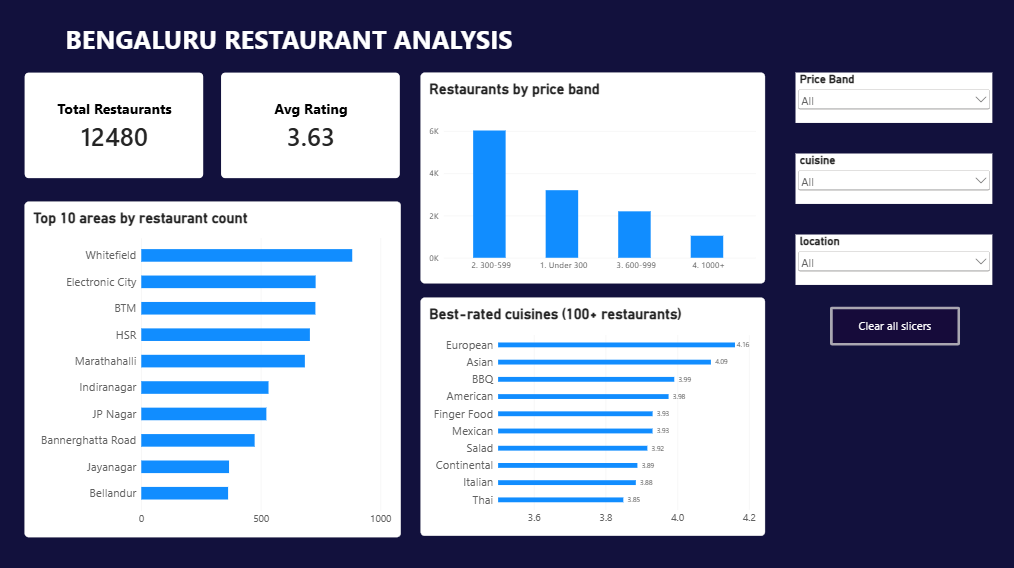

Layout of this report page (visuals, bound fields, positions):
{"tool":"powerbi","page":{"name":"Page 1","canvas":[1920,1080],"ordinal":0},"visuals":[{"type":"cardVisual","fields":{"Data":["restaurants_model.Total Restaurants"]},"box":[10,0,171.7,280],"z":0},{"type":"cardVisual","fields":{"Data":["restaurants_model.Avg Rating"]},"box":[181.7,0,118.3,280],"z":1},{"type":"clusteredBarChart","fields":{"Category":["restaurants_model.location"],"Y":["restaurants_model.Total Restaurants"]},"box":[10,290,280,280],"z":2},{"type":"clusteredBarChart","fields":{"Category":["restaurant_cuisines.cuisine"],"Y":["restaurants_model.Avg Rating"]},"box":[10,580,280,280],"z":3},{"type":"clusteredColumnChart","fields":{"Category":["restaurants_model.Price Band"],"Y":["restaurants_model.Total Restaurants"]},"box":[320,10,414.4,257.8],"z":4},{"type":"slicer","fields":{"Values":["restaurants_model.Price Band"]},"box":[321.7,290,413.3,210],"z":5},{"type":"slicer","fields":{"Values":["restaurant_cuisines.cuisine"]},"box":[320,668.3,414,280],"z":6},{"type":"slicer","fields":{"Values":["restaurants_model.location"]},"box":[320,511.7,414,280],"z":7}]}

Visuals, with their boxes in screenshot pixels (x1, y1, x2, y2), scaled from the page's 1920x1080 canvas onto the 1014x568 screenshot:
cardVisual - restaurants_model.Total Restaurants: bbox=(5, 0, 96, 147)
cardVisual - restaurants_model.Avg Rating: bbox=(96, 0, 158, 147)
clusteredBarChart - restaurants_model.location x restaurants_model.Total Restaurants: bbox=(5, 153, 153, 300)
clusteredBarChart - restaurant_cuisines.cuisine x restaurants_model.Avg Rating: bbox=(5, 305, 153, 452)
clusteredColumnChart - restaurants_model.Price Band x restaurants_model.Total Restaurants: bbox=(169, 5, 388, 141)
slicer - restaurants_model.Price Band: bbox=(170, 153, 388, 263)
slicer - restaurant_cuisines.cuisine: bbox=(169, 351, 388, 499)
slicer - restaurants_model.location: bbox=(169, 269, 388, 416)
